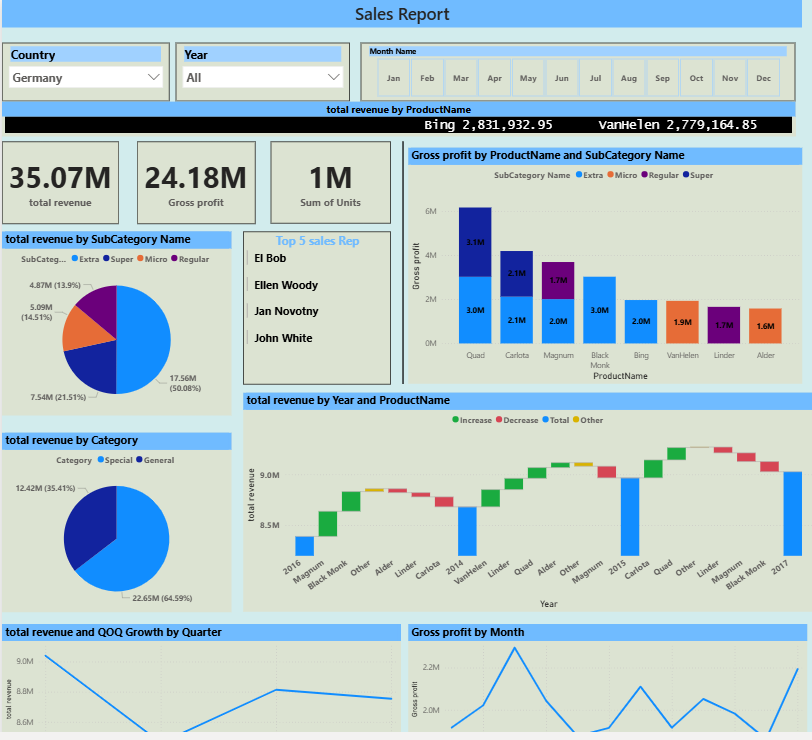

Layout of this report page (visuals, bound fields, positions):
{"tool":"powerbi","page":{"name":"Page 1","canvas":[1300,1300],"ordinal":0},"visuals":[{"type":"textbox","box":[0,0,1280.3,45.2],"z":0},{"type":"slicer","fields":{"Values":["Geography.Country"]},"box":[0,69.3,268.4,93.8],"z":1000},{"type":"slicer","fields":{"Values":["Date Master.Year"]},"box":[278.5,69.3,278.5,93.8],"z":2000},{"type":"slicer","fields":{"Values":["Date Master.Month Name"]},"box":[574.2,69.3,695.4,93.8],"z":3000},{"type":"shape","box":[0,163,1269.6,36.1],"z":4000},{"type":"card","fields":{"Values":["Table.total revenue"]},"box":[0,227.4,187.1,132.1],"z":5000},{"type":"card","fields":{"Values":["Table.Gross profit"]},"box":[215.2,227.4,189.5,132.1],"z":6000},{"type":"card","fields":{"Values":["Sum(Sales.Units)"]},"box":[429.9,228,191.9,131.3],"z":7000},{"type":"shape","box":[621.1,228.2,39.3,388.4],"z":8000},{"type":"pieChart","fields":{"Category":["Sub categories.SubCategory Name"],"Y":["Table.total revenue"]},"box":[0,371.8,367.2,294.7],"z":9000},{"type":"pieChart","fields":{"Y":["Table.total revenue"],"Category":["Categories.Category"]},"box":[0,693.7,367.2,287.1],"z":10000},{"type":"multiRowCard","title":"Top 5 sales Rep","fields":{"Values":["SalesRep.Sales Rep Name"]},"box":[385.4,371.8,235.8,244.8],"z":11000},{"type":"ScrollingTextVisual1448795304508","fields":{"Measure Absolute":["Table.total revenue"],"Category":["Product.ProductName"]},"box":[0,163.9,1269.3,55],"z":12000},{"type":"waterfallChart","fields":{"Category":["Date Master.Year"],"Breakdown":["Product.ProductName"],"Y":["Table.total revenue"]},"box":[385.4,630.2,914.3,350.6],"z":13000},{"type":"columnChart","fields":{"Category":["Product.ProductName"],"Y":["Table.Gross profit"],"Series":["Sub categories.SubCategory Name"]},"box":[649.8,238.8,630.2,377.8],"z":14000},{"type":"lineChart","fields":{"Y":["Table.total revenue"],"Category":["Date Master.Quarter"]},"box":[0,1000.3,638.1,244.8],"z":15000},{"type":"lineChart","fields":{"Category":["Date Master.Month"],"Y":["Table.Gross profit"]},"box":[650.6,1000.3,638.1,244.8],"z":16000}]}

Visuals, with their boxes on the page's 1300x1300 design canvas (x1, y1, x2, y2). These are canvas units, not pixel positions in the 812x740 screenshot, which may show the page scaled, cropped or inside an application window:
textbox: Rect(0, 0, 1280, 45)
slicer - Geography.Country: Rect(0, 69, 268, 163)
slicer - Date Master.Year: Rect(278, 69, 557, 163)
slicer - Date Master.Month Name: Rect(574, 69, 1270, 163)
shape: Rect(0, 163, 1270, 199)
card - Table.total revenue: Rect(0, 227, 187, 360)
card - Table.Gross profit: Rect(215, 227, 405, 360)
card - Sum(Sales.Units): Rect(430, 228, 622, 359)
shape: Rect(621, 228, 660, 617)
pieChart - Sub categories.SubCategory Name x Table.total revenue: Rect(0, 372, 367, 666)
pieChart - Table.total revenue x Categories.Category: Rect(0, 694, 367, 981)
"Top 5 sales Rep" multiRowCard: Rect(385, 372, 621, 617)
ScrollingTextVisual1448795304508 - Table.total revenue x Product.ProductName: Rect(0, 164, 1269, 219)
waterfallChart - Date Master.Year x Product.ProductName: Rect(385, 630, 1300, 981)
columnChart - Product.ProductName x Table.Gross profit: Rect(650, 239, 1280, 617)
lineChart - Table.total revenue x Date Master.Quarter: Rect(0, 1000, 638, 1245)
lineChart - Date Master.Month x Table.Gross profit: Rect(651, 1000, 1289, 1245)
